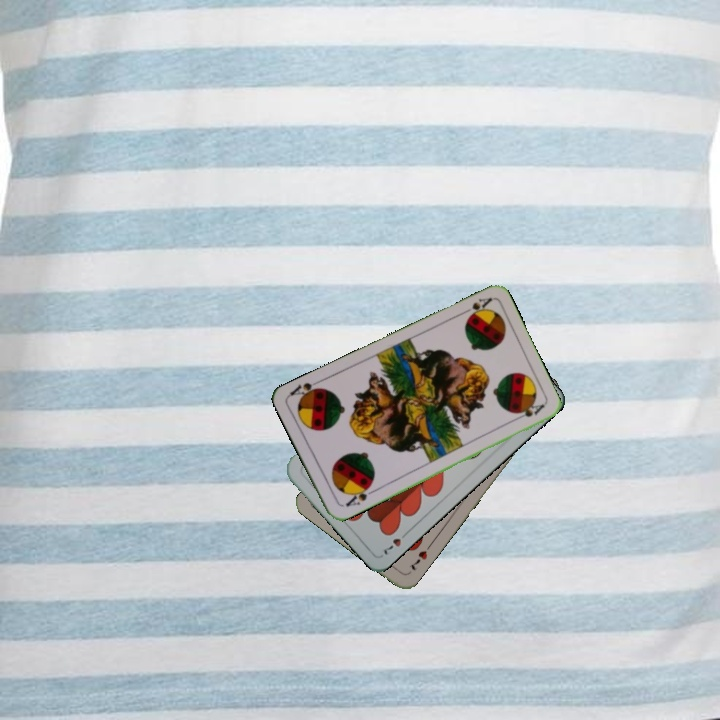H7: (379, 527, 412, 558), (405, 546, 430, 573)
SA: (456, 293, 494, 322), (341, 481, 377, 509)
